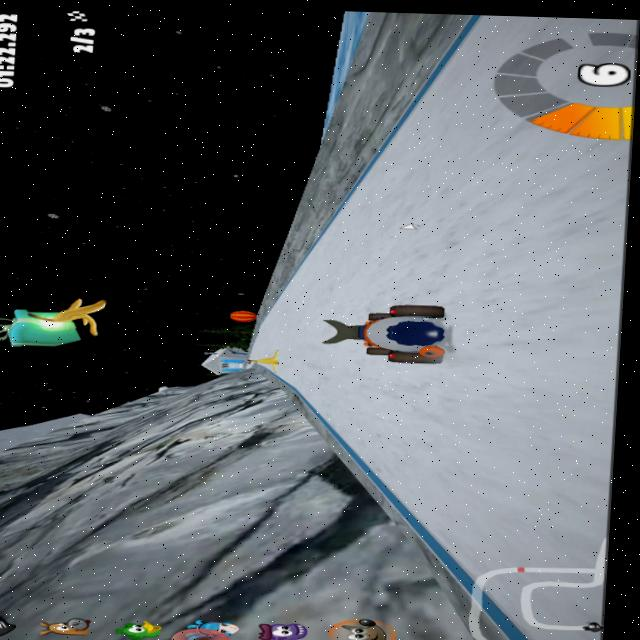obstacle: (249, 348, 291, 373)
player_kart: (316, 300, 458, 366)
track: (446, 14, 640, 552), (400, 50, 478, 302), (345, 363, 455, 454), (483, 549, 598, 608), (332, 200, 396, 302), (279, 273, 314, 383), (390, 450, 451, 503), (366, 152, 402, 201), (305, 364, 349, 404), (310, 403, 352, 427), (256, 317, 276, 347)
